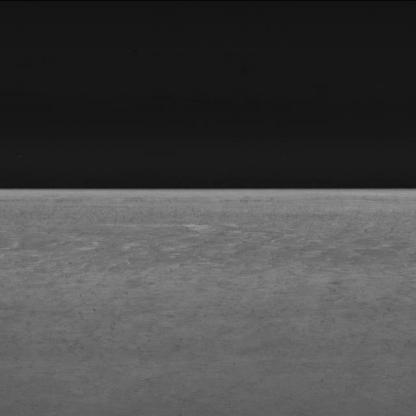silk_spot: (20, 215, 382, 330)
